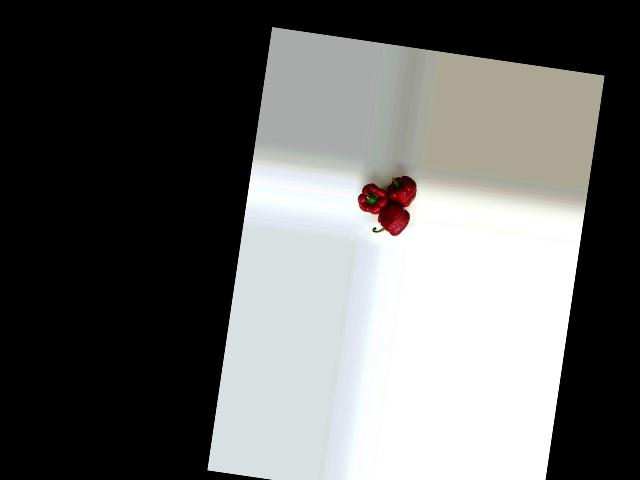bell_pepper: (369, 202, 412, 245)
